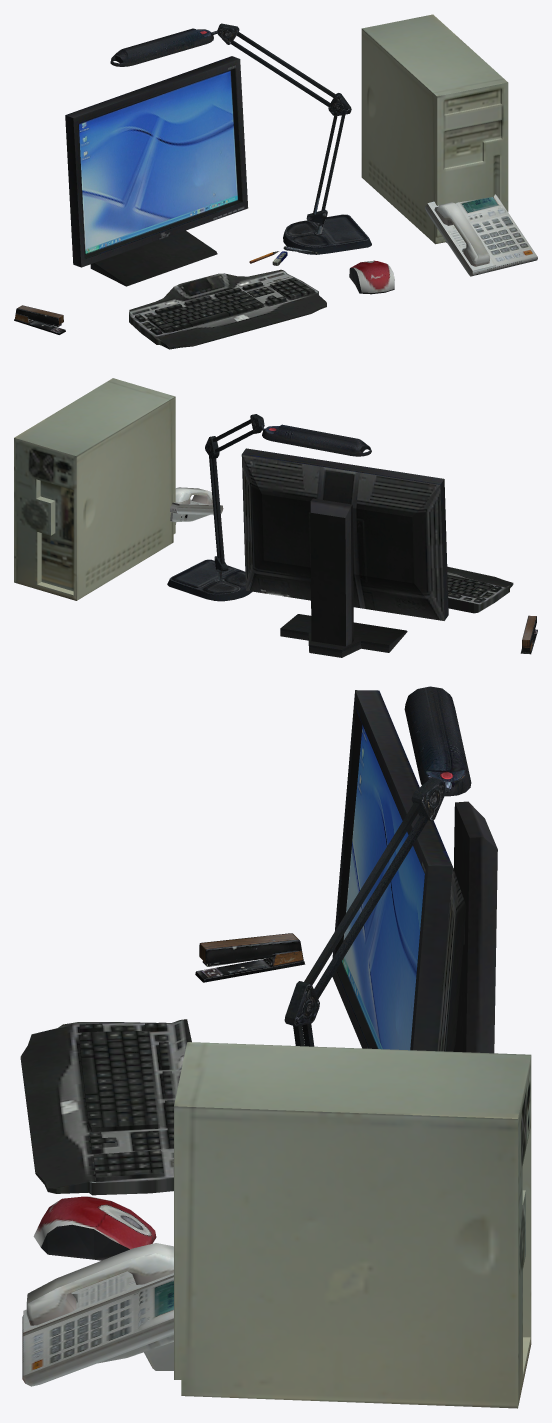
File: workstation-user-v41.glb
3 renders of one model, top to bottom at view 1: azimuth 30°, elevation 25°; view 2: azimuth 150°, elevation 25°; view 3: azimuth 270°, elevation 25°, orthographic. The views are drawn at different scales.
Parts seen in each view (by area): view 1: UserWorkstationMonitor, UserWorkstationTower, UserWorkstationKeyboard, UserDeskLamp, UserDeskTelephone, UserWorkstationMouse, UserDeskStapler; view 2: UserWorkstationMonitor, UserWorkstationTower, UserDeskLamp, UserWorkstationKeyboard, UserDeskTelephone, UserDeskStapler; view 3: UserWorkstationTower, UserWorkstationMonitor, UserWorkstationKeyboard, UserDeskTelephone, UserDeskLamp, UserWorkstationMouse, UserDeskStapler.
Boxes of the visible parts, left/top/right/bottom form: UserWorkstationMonitor: left=65, top=56, right=248, bottom=286; UserWorkstationTower: left=361, top=14, right=508, bottom=244; UserWorkstationKeyboard: left=129, top=269, right=326, bottom=349; UserDeskLamp: left=110, top=23, right=371, bottom=254; UserDeskTelephone: left=425, top=194, right=537, bottom=276; UserWorkstationMouse: left=349, top=260, right=394, bottom=294; UserDeskStapler: left=14, top=305, right=65, bottom=334; UserWorkstationMonitor: left=241, top=448, right=448, bottom=657; UserWorkstationTower: left=14, top=378, right=175, bottom=600; UserDeskLamp: left=167, top=414, right=371, bottom=601; UserWorkstationKeyboard: left=447, top=566, right=513, bottom=613; UserDeskTelephone: left=170, top=487, right=223, bottom=524; UserDeskStapler: left=520, top=615, right=537, bottom=654; UserWorkstationTower: left=174, top=1042, right=531, bottom=1408; UserWorkstationMonitor: left=332, top=690, right=497, bottom=1053; UserWorkstationKeyboard: left=20, top=1019, right=191, bottom=1195; UserDeskTelephone: left=22, top=1243, right=173, bottom=1386; UserDeskLamp: left=284, top=686, right=471, bottom=1046; UserWorkstationMouse: left=33, top=1196, right=156, bottom=1260; UserDeskStapler: left=195, top=933, right=305, bottom=982.
Bounding box in the file's own units: 1.62 × 0.6837 × 0.7731.
Materials: 7 (7 with a texture image).
